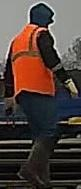gloves: (2, 98, 17, 120), (63, 80, 79, 100)
vest: (7, 23, 56, 97)
